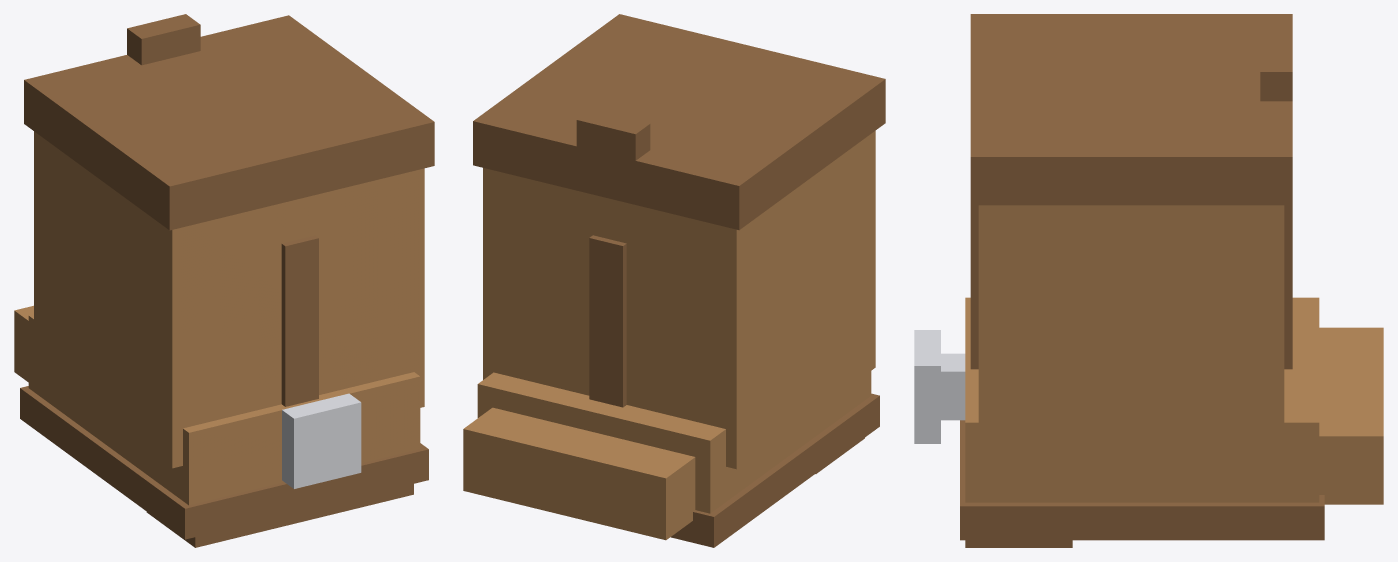
File: botas_cauboi_esporas.glb
3 views of the same model, side by side, from view 1: azimuth 30°, elevation 25°; view 2: azimuth 150°, elevation 25°; view 3: azimuth 270°, elevation 25° (orthographic). The views are drawn at different scales.
Visible parts, largest first — view 1: botas_cauboi_esporas; view 2: botas_cauboi_esporas; view 3: botas_cauboi_esporas.
Part boxes in pixels (x1,y1,x2,y2): botas_cauboi_esporas: [14, 14, 434, 547]; botas_cauboi_esporas: [463, 14, 885, 547]; botas_cauboi_esporas: [914, 14, 1383, 547].
Size of the model in its own units: 0.315 by 0.445 by 0.4375.
